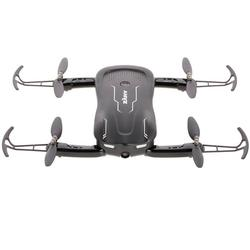drone: (3, 57, 250, 170)
